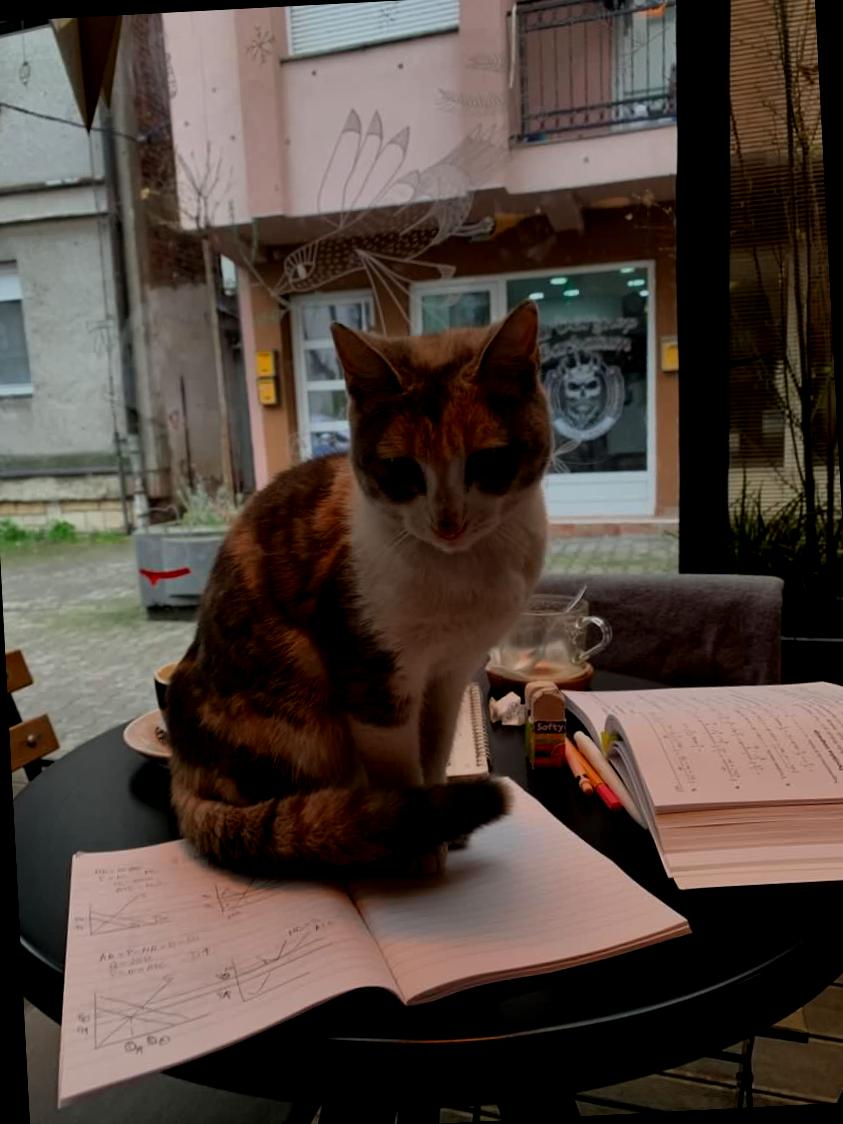macka: (144, 295, 578, 892)
